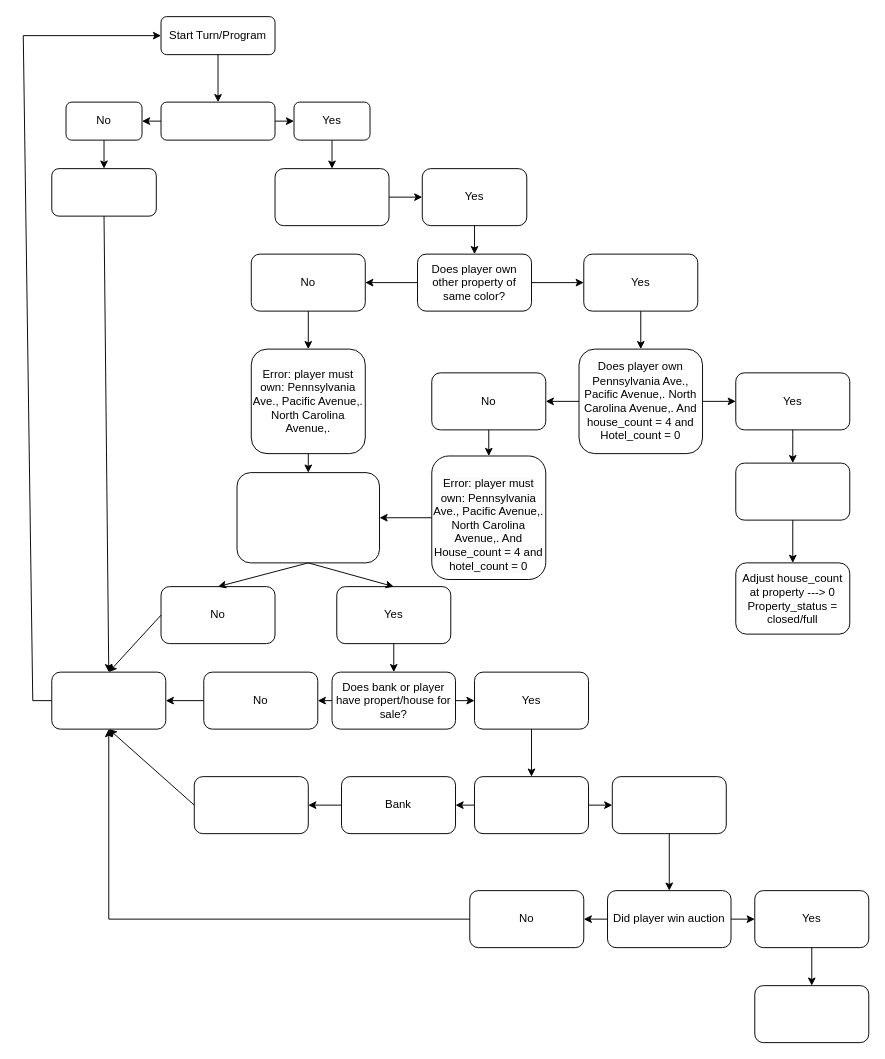
Image size: 885x1059. Some labels were removed from this diagram. The centre of each missing label's shape, as x and y in pixels:
Does Player own Pennsylvania Ave.: the point at 331,197
Is player on Property and Property_status != closed/full: the point at 308,517
Is player_balance >= 200: the point at 217,120
Player: the point at 668,805
Player Can purchase a hotel: the point at 792,491
Player cannot complete an action: the point at 103,192
Player must wait: the point at 108,700
Player pays $200 and owns property: the point at 250,805
Player pays $200 and owns property. program loops back: the point at 811,1014
Purchase from bank or player?: the point at 531,805
